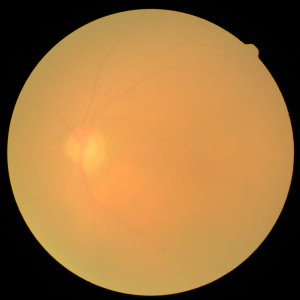cataract: (37, 97, 240, 199)
